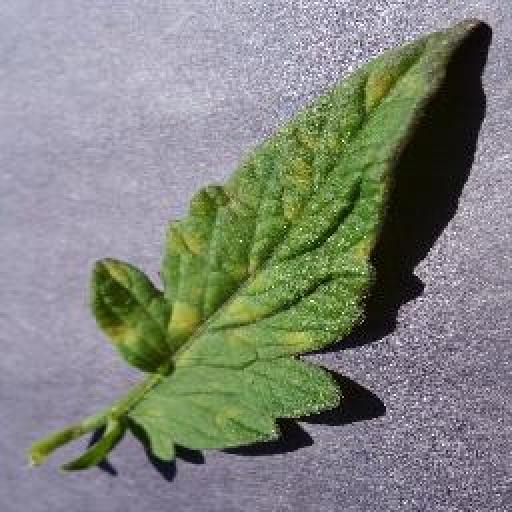Leaf Mold: (90, 17, 479, 464)
